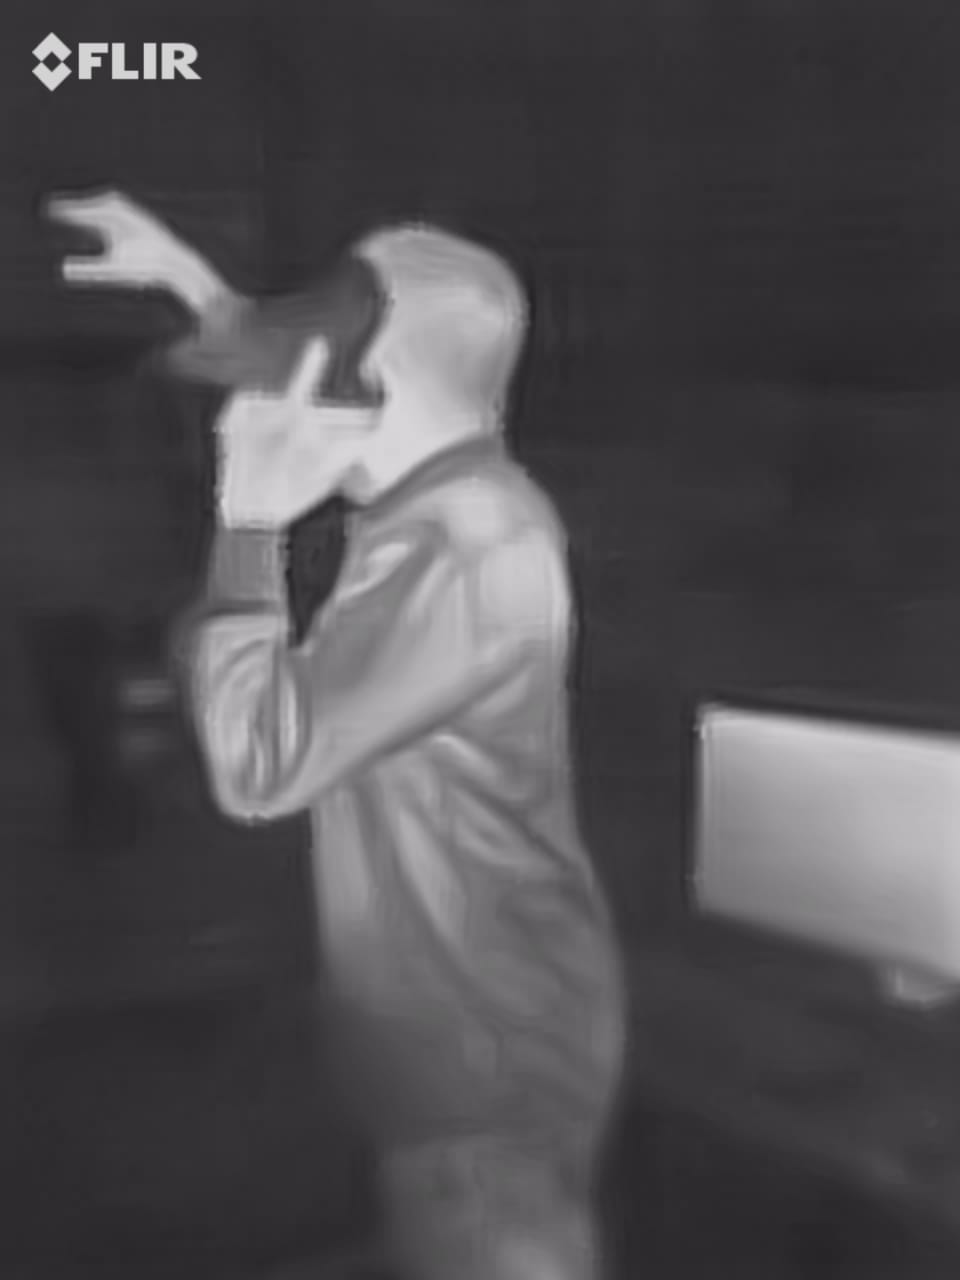head: (268, 214, 565, 500)
